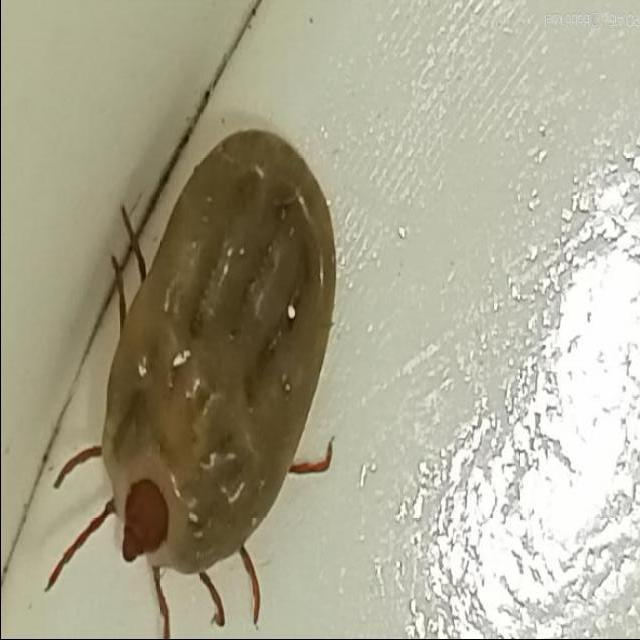Rhipicephalus Sanguineus-F-Fed: (42, 128, 335, 640)
